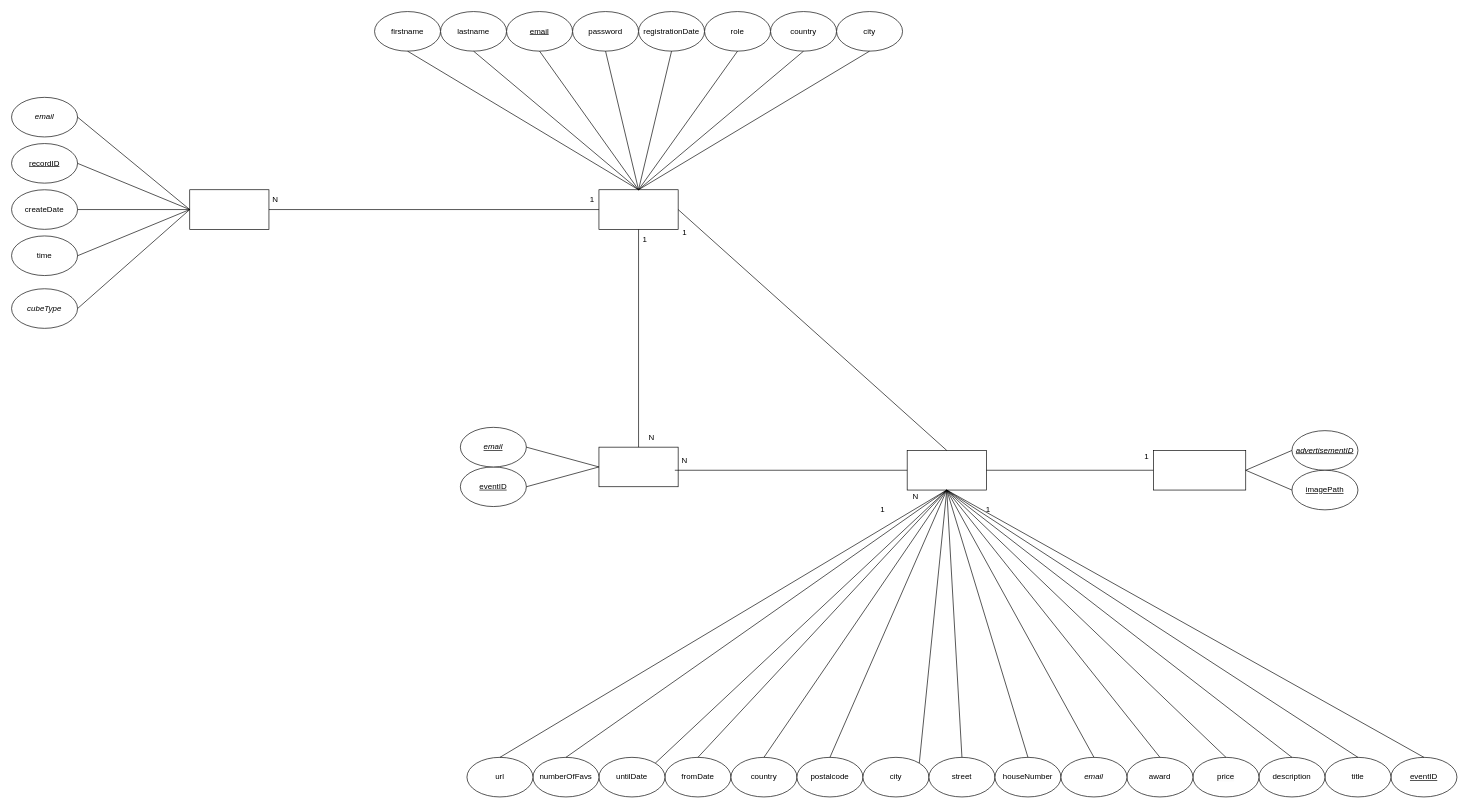
The diagram is 1469 pixels wide and 809 high, and some of its shapes have lost their labels. Each missing label, with the centre of its shape:
Event: pixel 946 470
Favourite: pixel 638 466
Image: pixel 1199 470
Record: pixel 229 209
User: pixel 638 209
